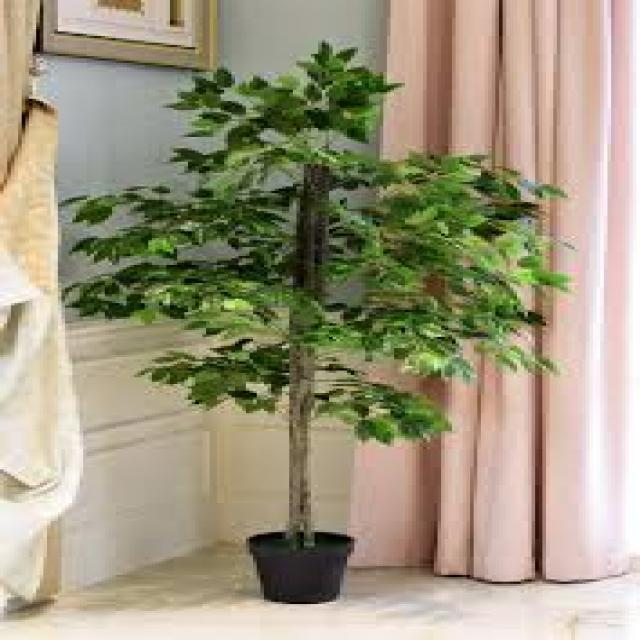tree: (69, 61, 575, 542)
